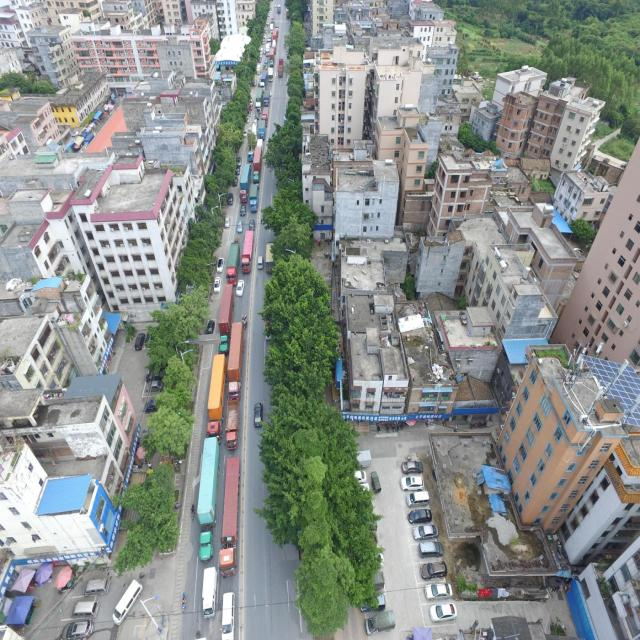car: (112, 578, 143, 626), (62, 619, 94, 639)
